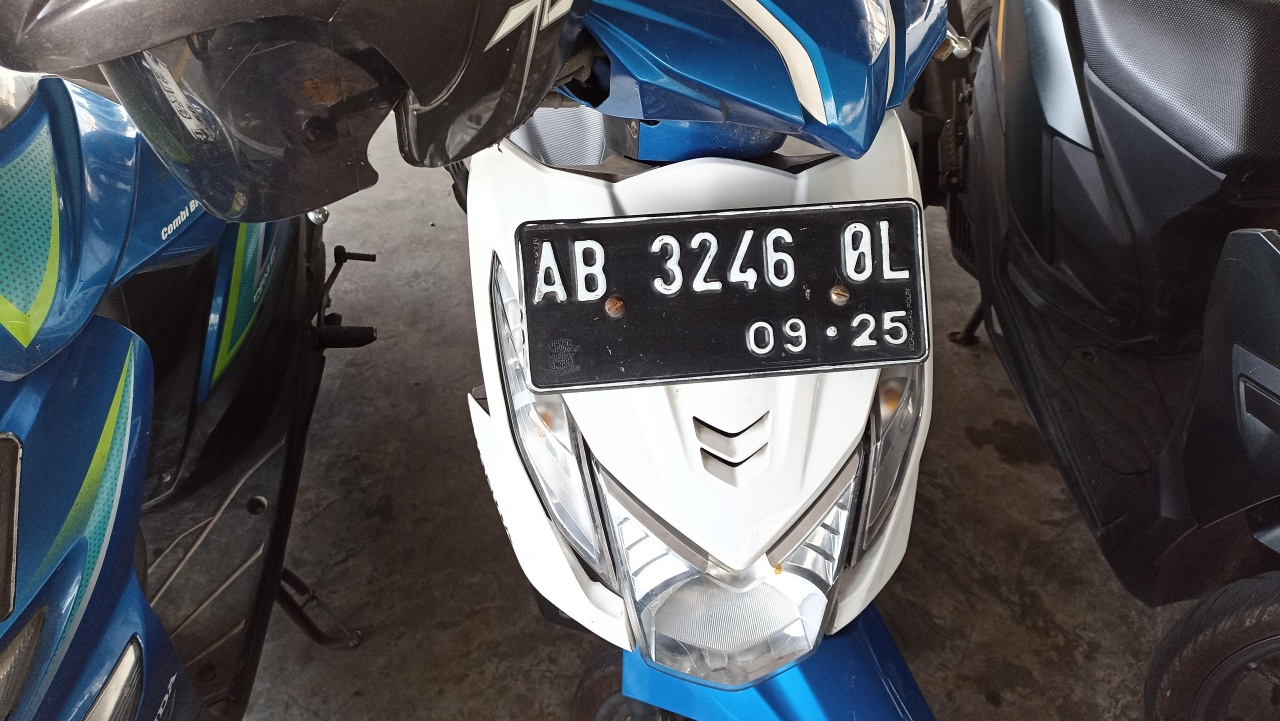plate: (518, 199, 929, 399)
